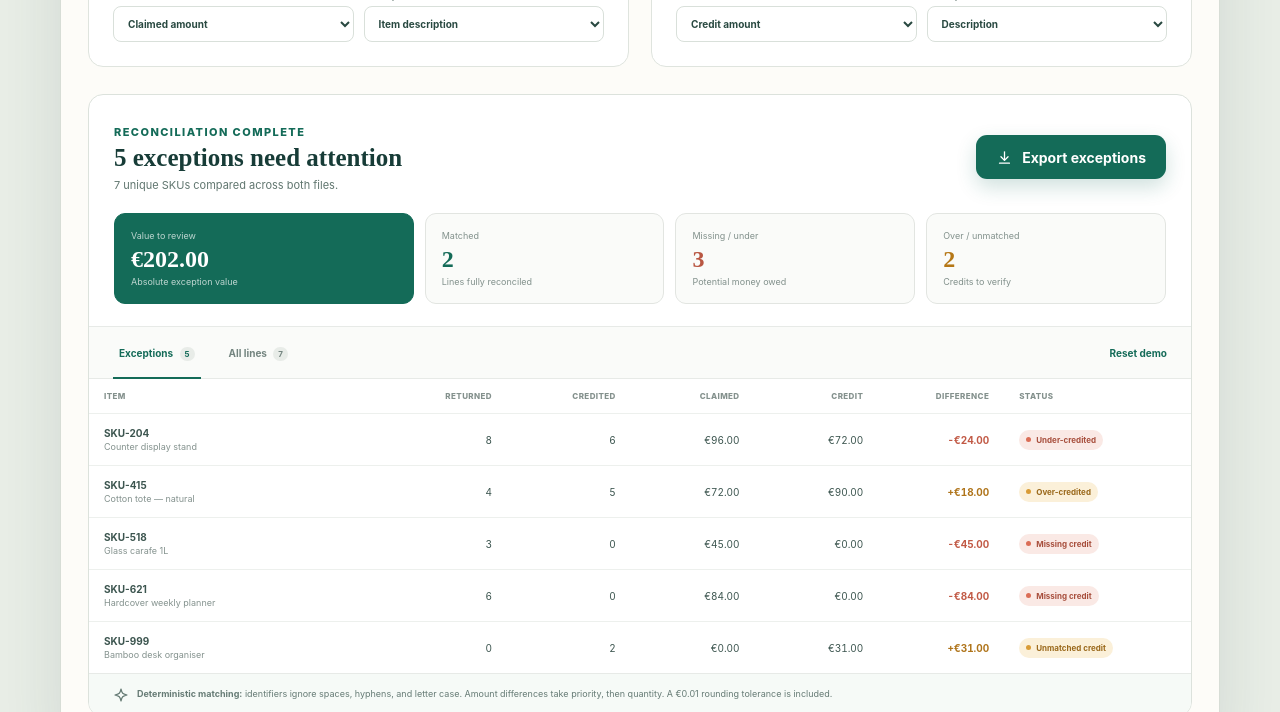
ReturnLedger app › renders a working sample reconciliation
(page scrolled)
Check: the heading "5 exceptions need attention" is shown, box [114,144,402,172]
Check: the text "€202.00" is shown, box [131,246,209,272]
Click the button "All lines 7" at point(258, 353), box [222,327,294,378]
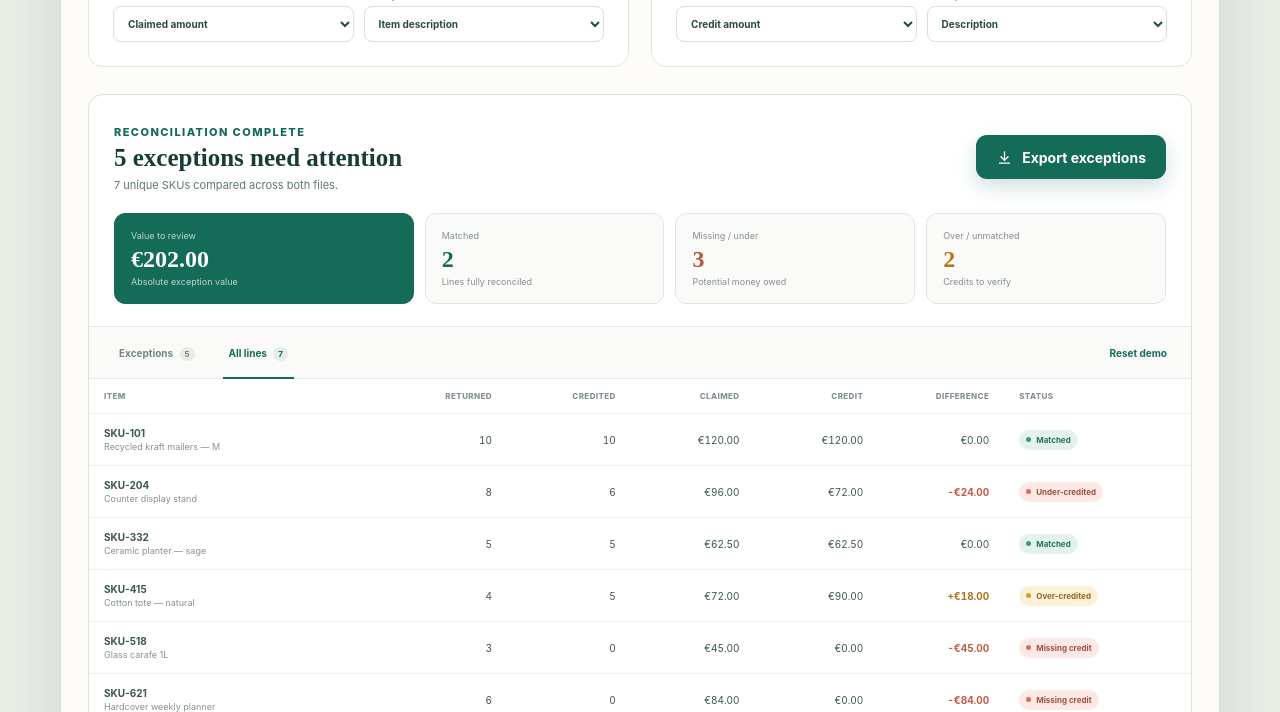
Check: the text "SKU-101" is shown, box [104,427,145,439]
